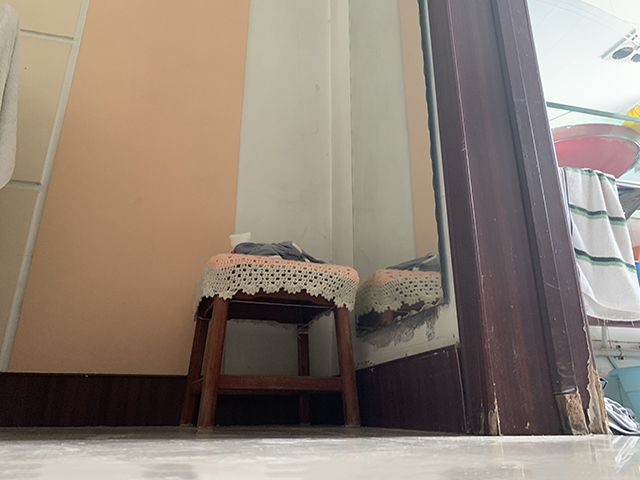stool: (178, 252, 364, 431)
